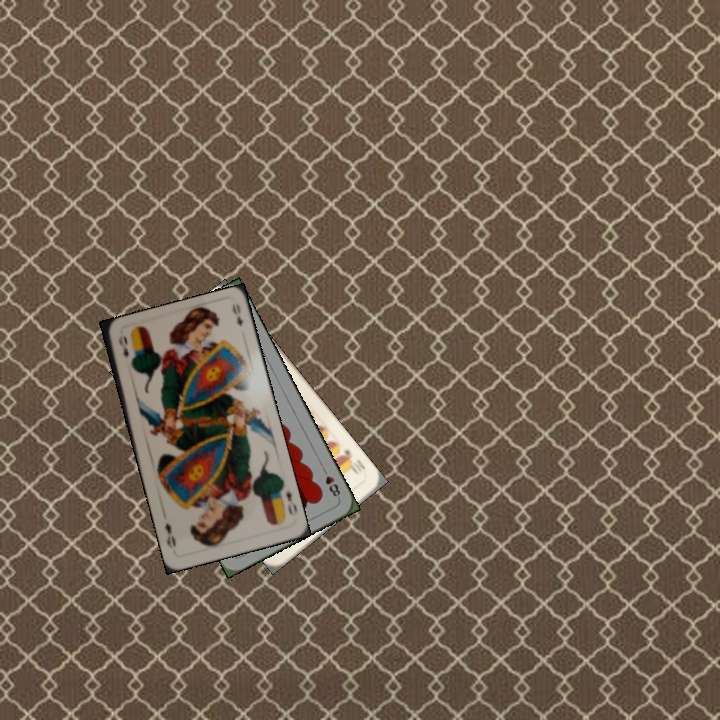E10: (336, 445, 368, 477)
EO: (274, 484, 299, 517), (114, 332, 131, 360)
H8: (318, 464, 343, 501)
